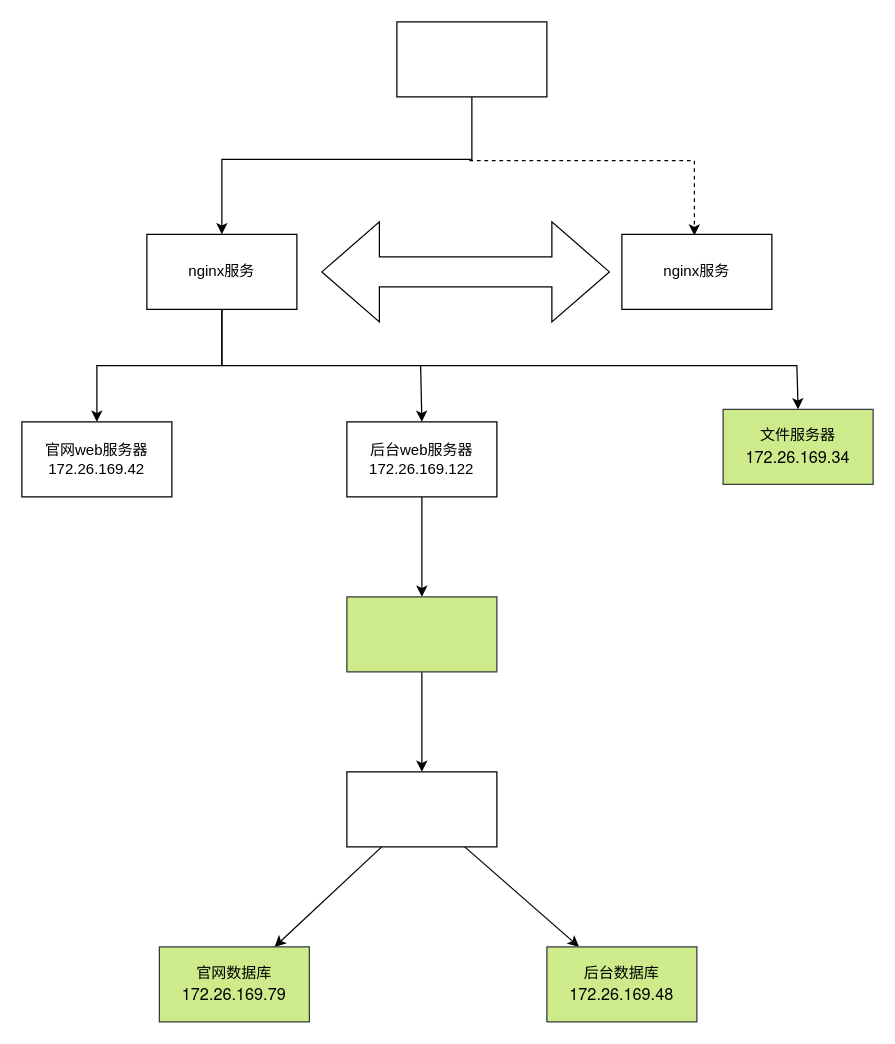
This 895x1044 diagram has some shape labels left out. The shapes that lost their labels are listed below. From the top down, each one's centre as x and y in pixels, then its label:
At point 471,59: "防火墙".
At point 465,271: "keepalived".
At point 421,634: "ZK服务器 172.26.169.105".
At point 421,809: "provider(全服务)".
